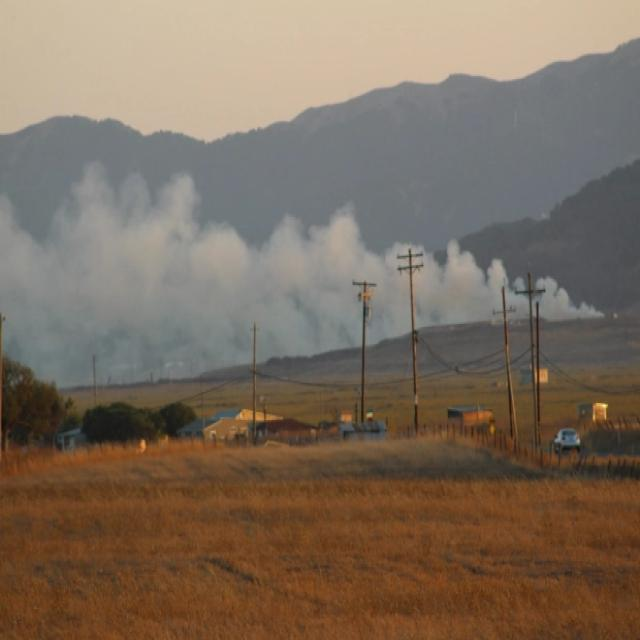Smoke: (0, 174, 574, 374)
